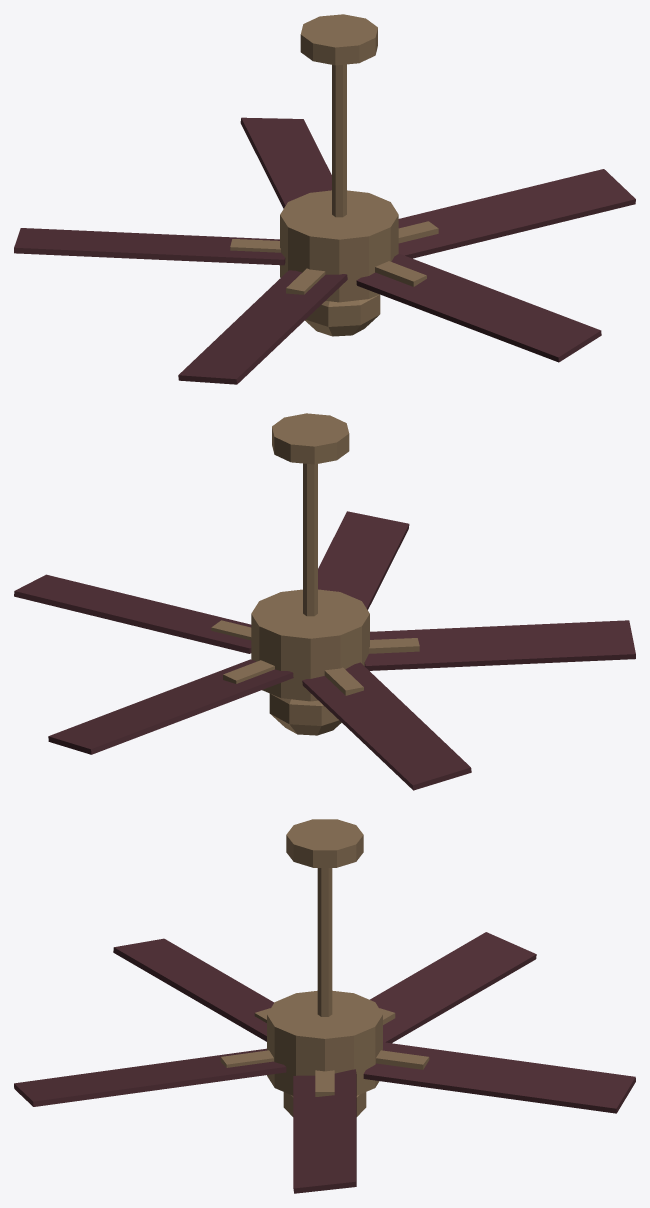
The model's file is ventilator.glb.
3 views of the same model, one above another, from view 1: azimuth 30°, elevation 25°; view 2: azimuth 150°, elevation 25°; view 3: azimuth 270°, elevation 25° (orthographic). The views are drawn at different scales.
Parts seen in each view (by area): view 1: Pale, Ventilator, Lumini; view 2: Pale, Ventilator, Lumini; view 3: Pale, Ventilator.
Part boxes in pixels (<box>): Pale: <box>14,117,635,384</box>; Ventilator: <box>280,14,398,302</box>; Lumini: <box>305,294,380,336</box>; Pale: <box>14,511,635,790</box>; Ventilator: <box>251,413,369,701</box>; Lumini: <box>269,693,341,735</box>; Pale: <box>14,932,635,1193</box>; Ventilator: <box>267,819,382,1095</box>.
Size of the model in its own units: 1.22 by 0.672 by 1.29.
